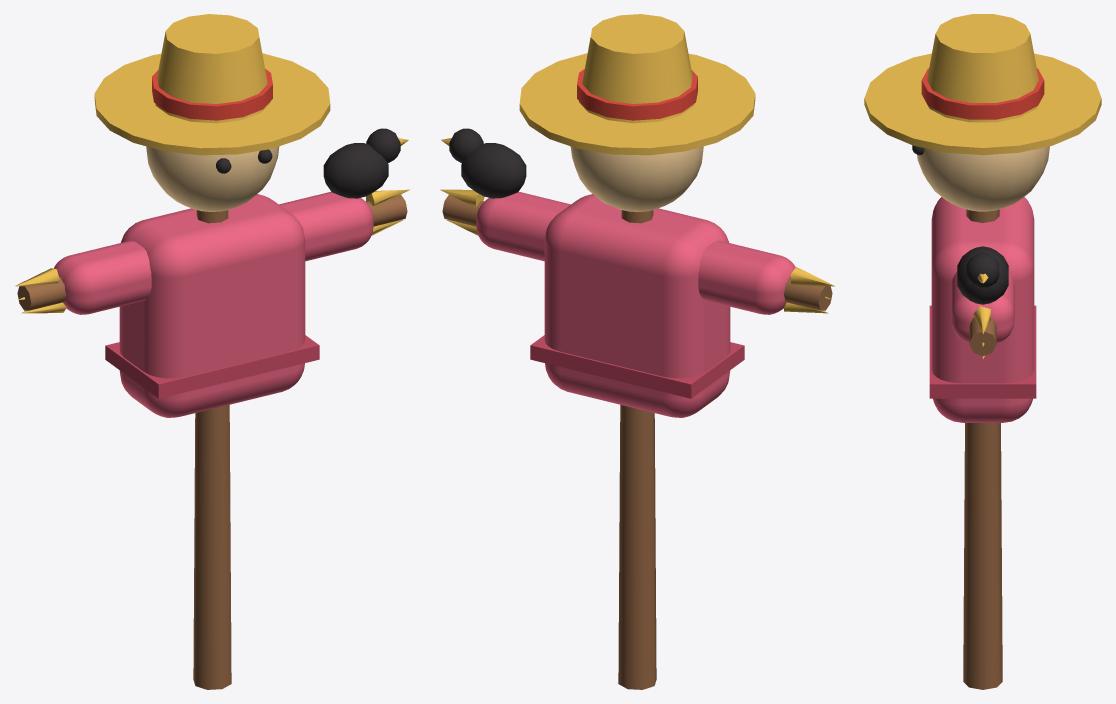
File: scarecrow.glb
3 views of the same model, side by side, from view 1: azimuth 30°, elevation 25°; view 2: azimuth 150°, elevation 25°; view 3: azimuth 270°, elevation 25° (orthographic).
Size of the model in its own units: 1.57 by 2.44 by 0.81.
